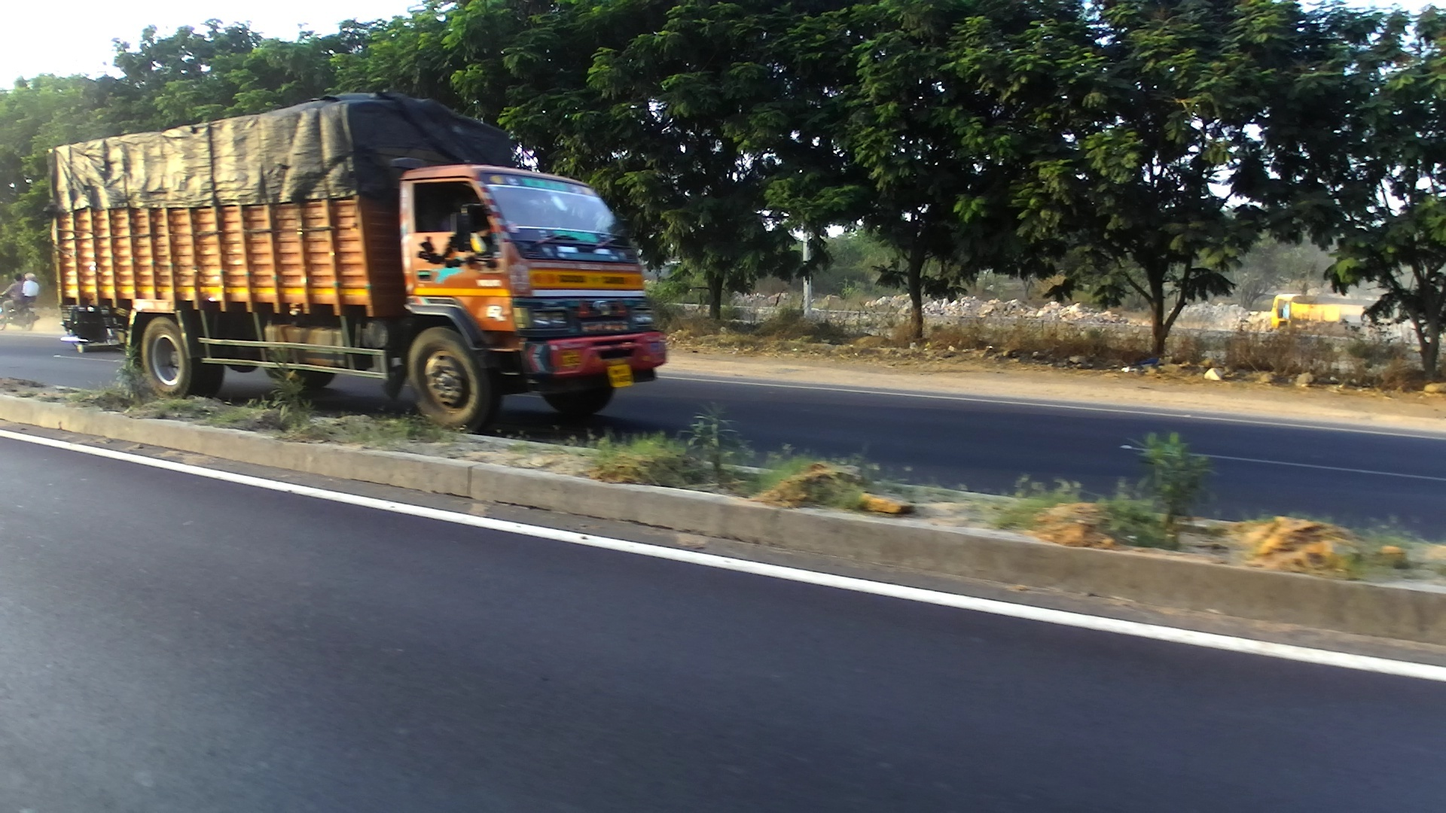motorcycle: (2, 291, 39, 335)
rider: (11, 270, 41, 324), (2, 272, 26, 325)
truck: (46, 83, 667, 433)
vehicle fallback: (1269, 293, 1356, 346)
